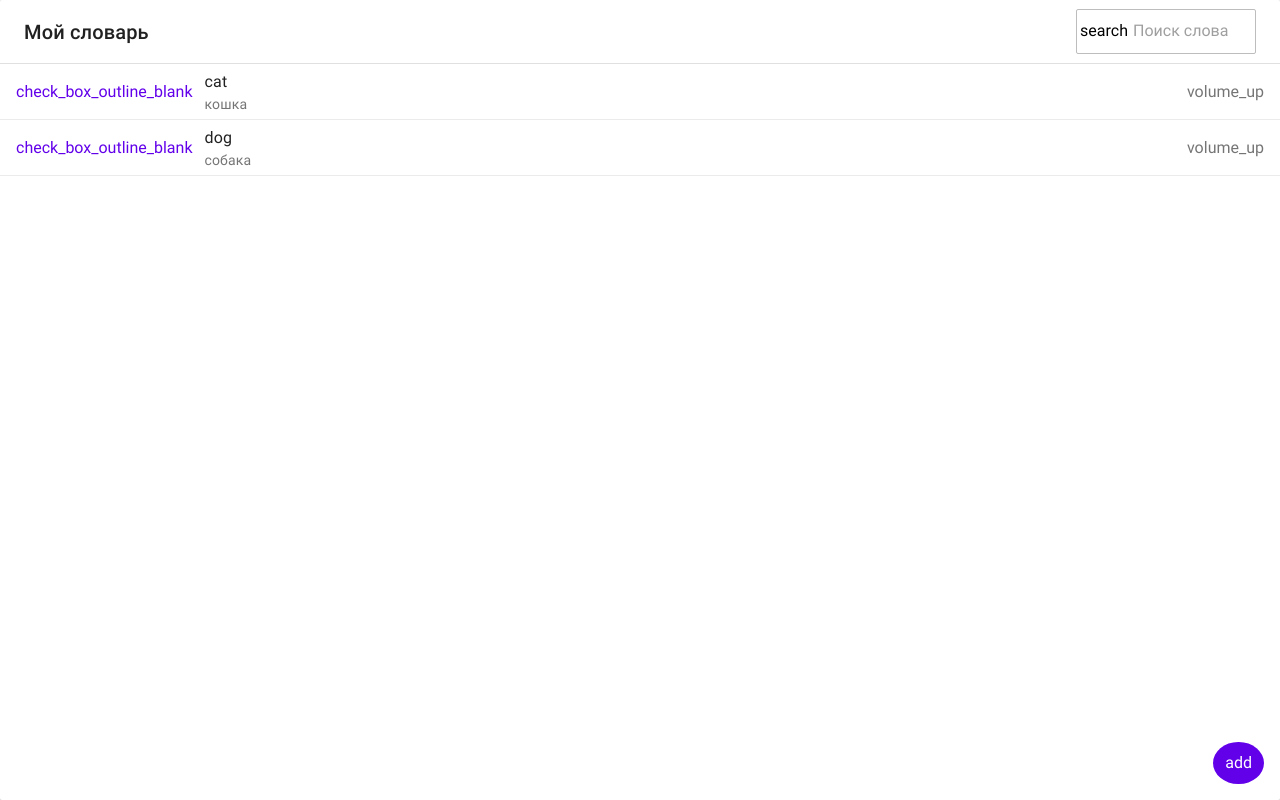
it: delete word pair
This screenshot has width=1280, height=800.
Expected: the text "cat" is shown, [204, 72, 227, 91]
What coordinates should you click on to do the following:
click the checkbox labelled "cat кошка"
I would click on:
 (104, 92)
Its box is [16, 83, 192, 101].
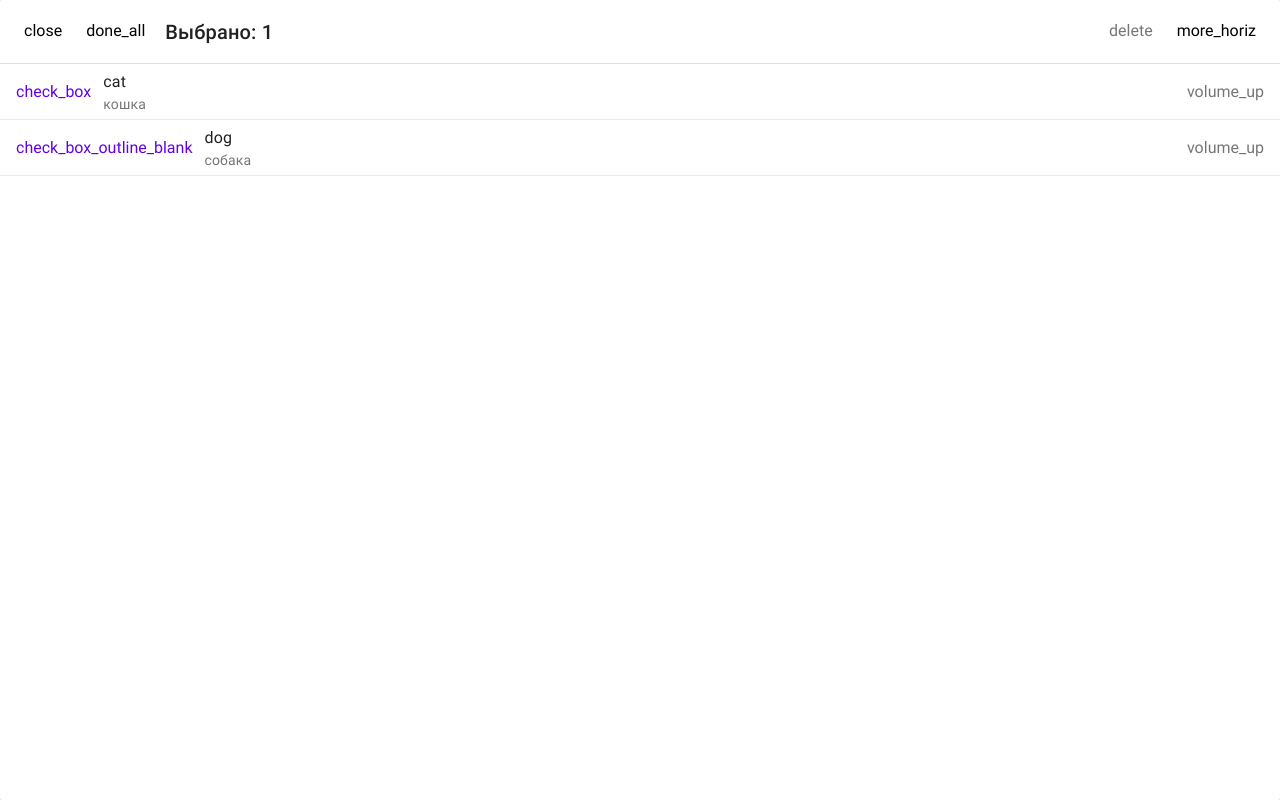
What coordinates should you click on to do the following:
click the button "delete"
I would click on:
 (1131, 32)
Its box is [1097, 10, 1165, 53].
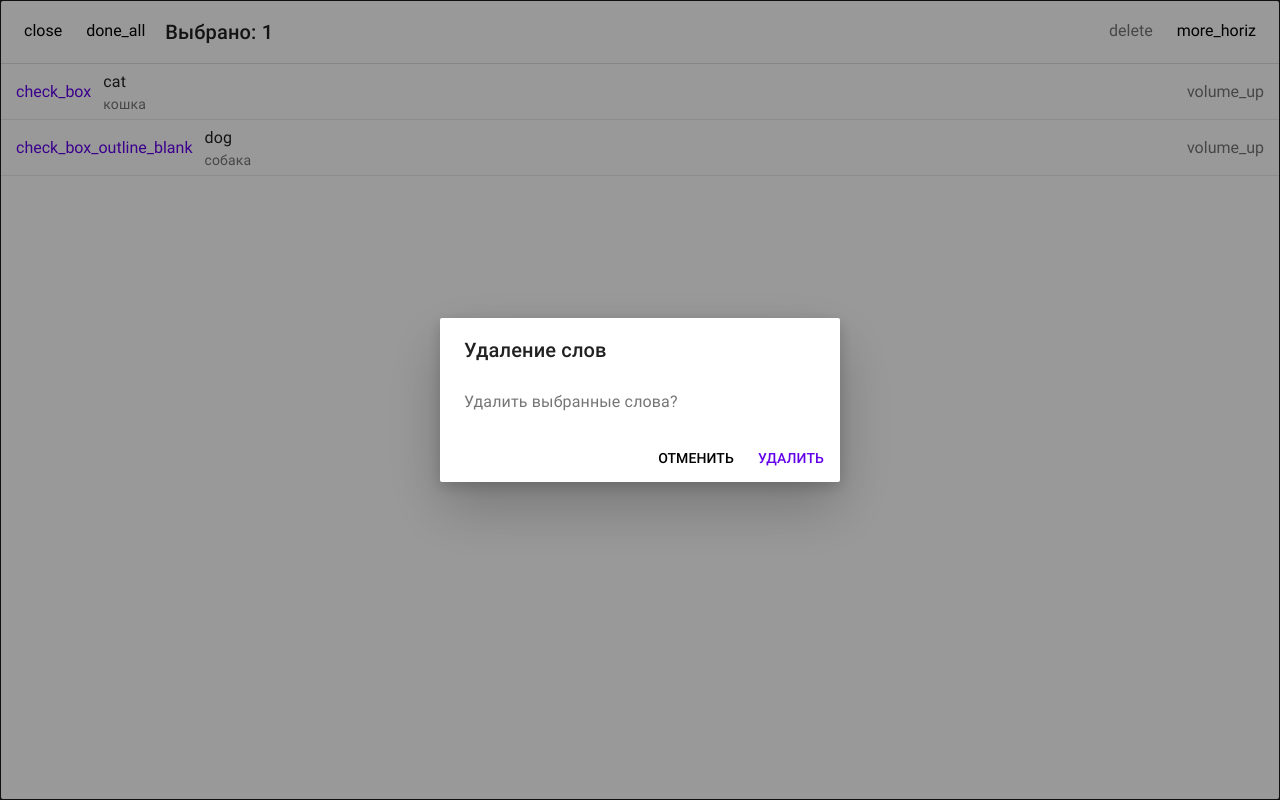
What coordinates should you click on to do the following:
click the button "Удалить"
I would click on:
 (791, 458)
Its box is [750, 442, 832, 474].
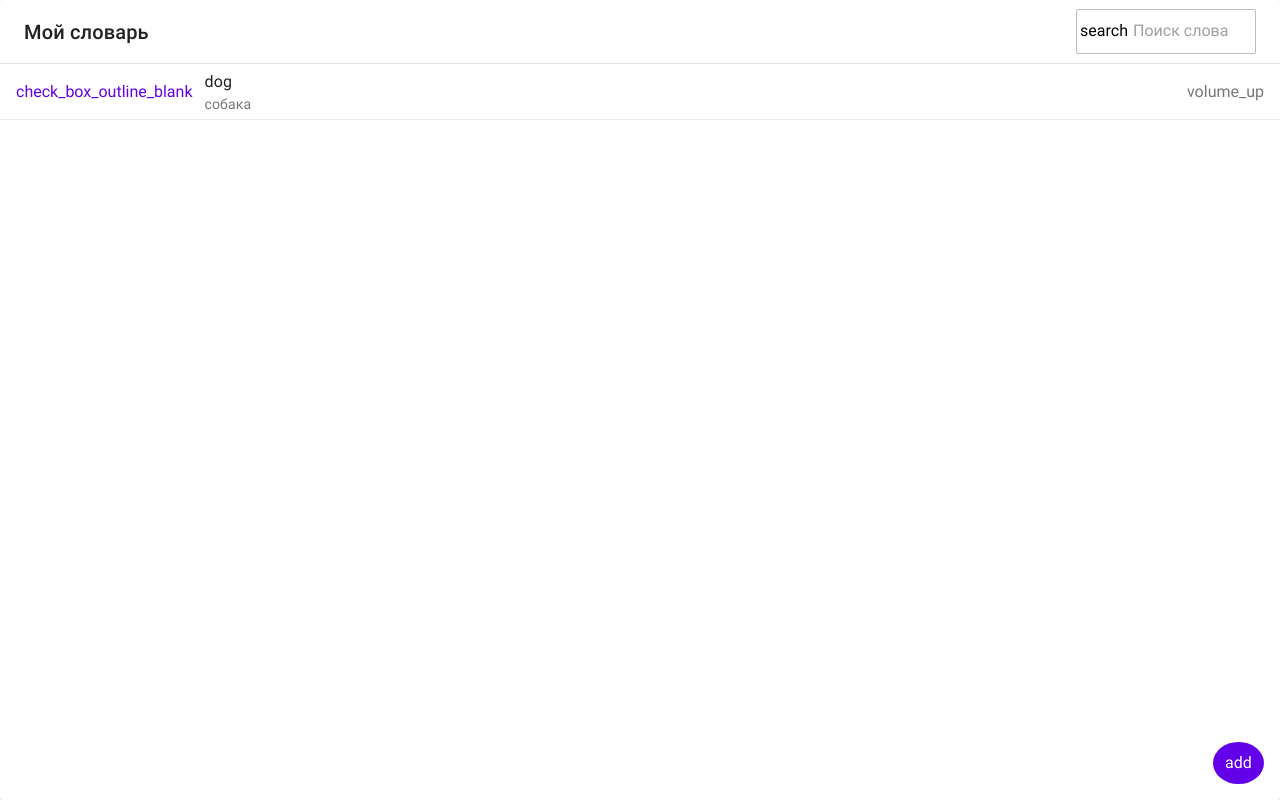
Expected: the button "cat" is gone
